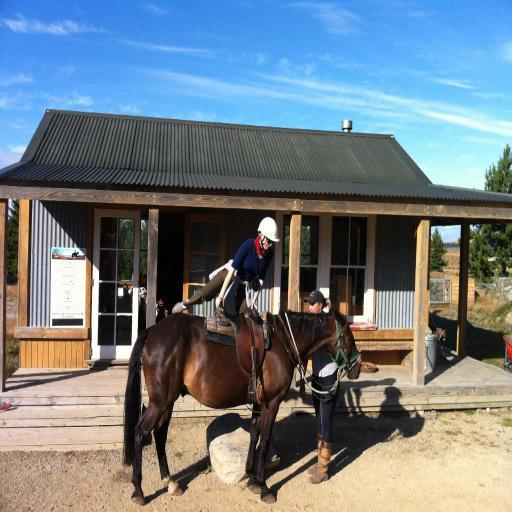horse: (121, 304, 363, 508)
